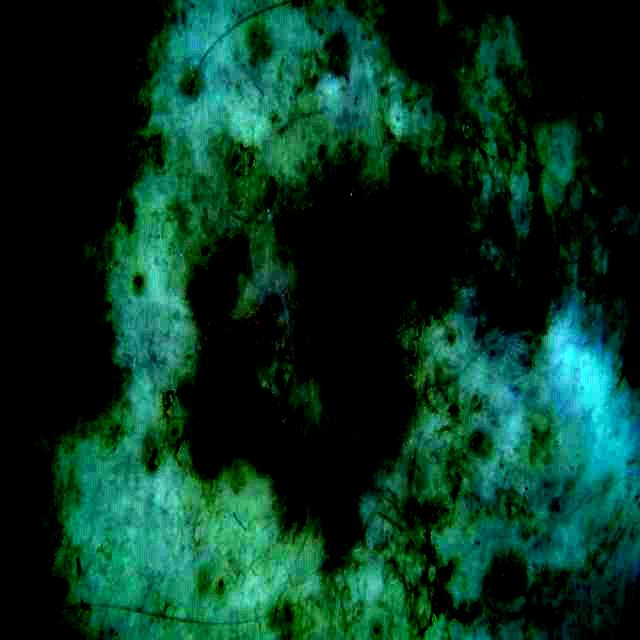BCC: (118, 58, 549, 542)
